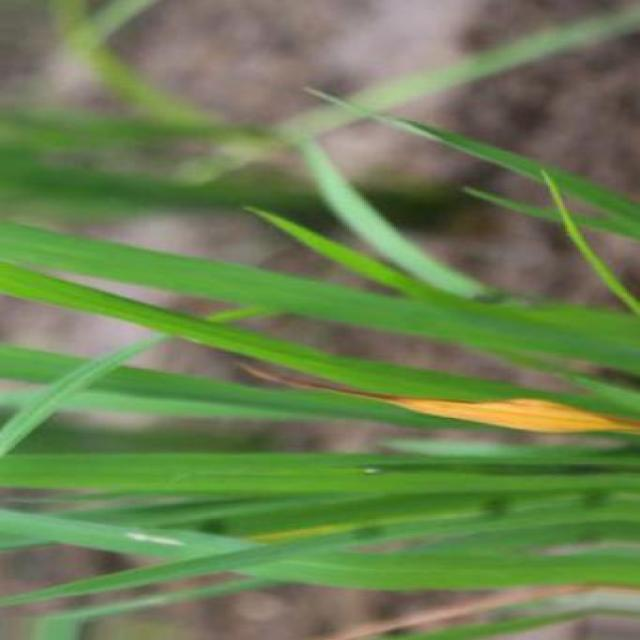Rice Tungro: (387, 398, 639, 433)
